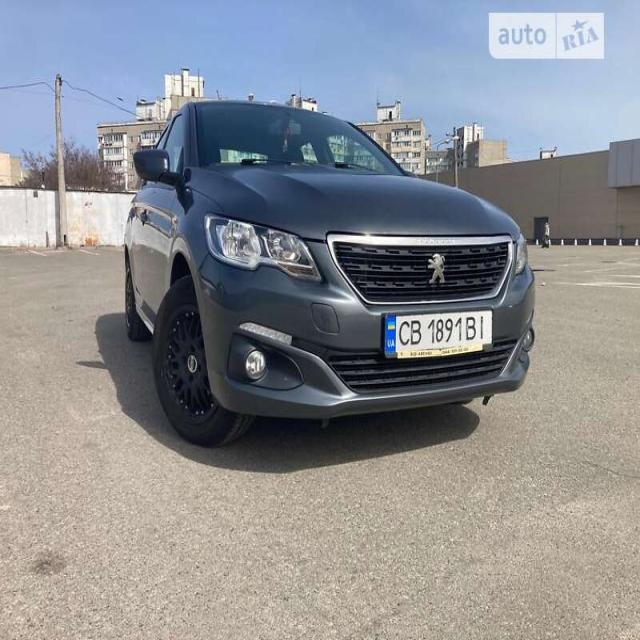plate: (385, 308, 498, 359)
